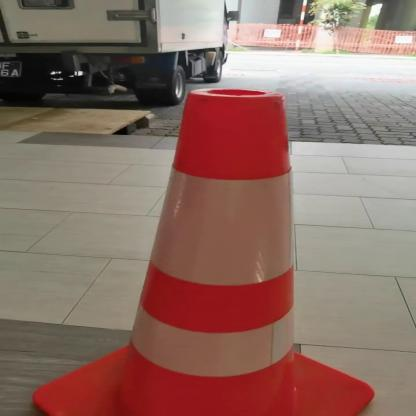cone: (30, 86, 394, 416)
